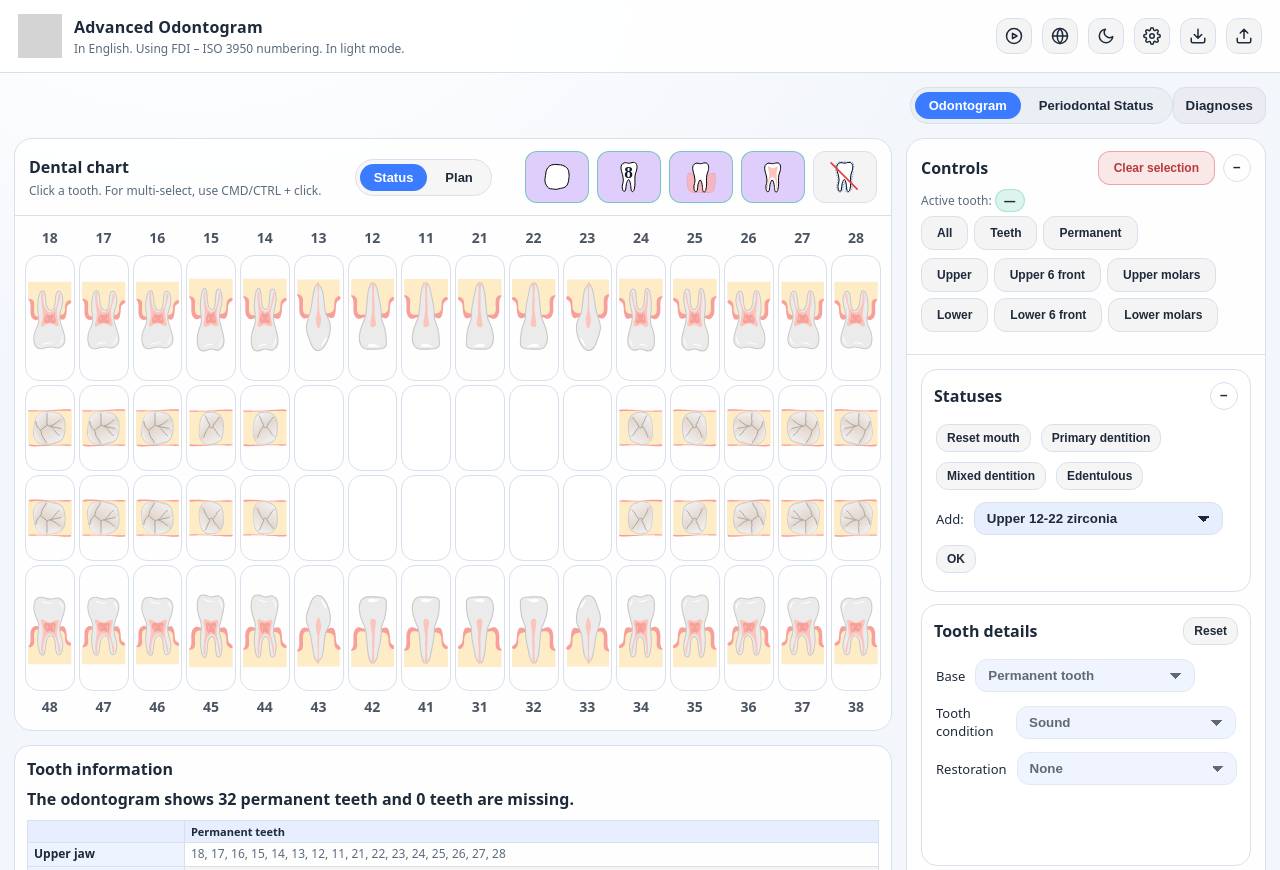
Test: Tooth-details card: selection & row visibility (Tier 3f regressions) › hides the extraction-wound / closed-gap rows for a selected permanent tooth
The width and height of the screenshot is (1280, 870).
Step 1. Click the option named "11" → (426, 318), box [401,255,451,381]
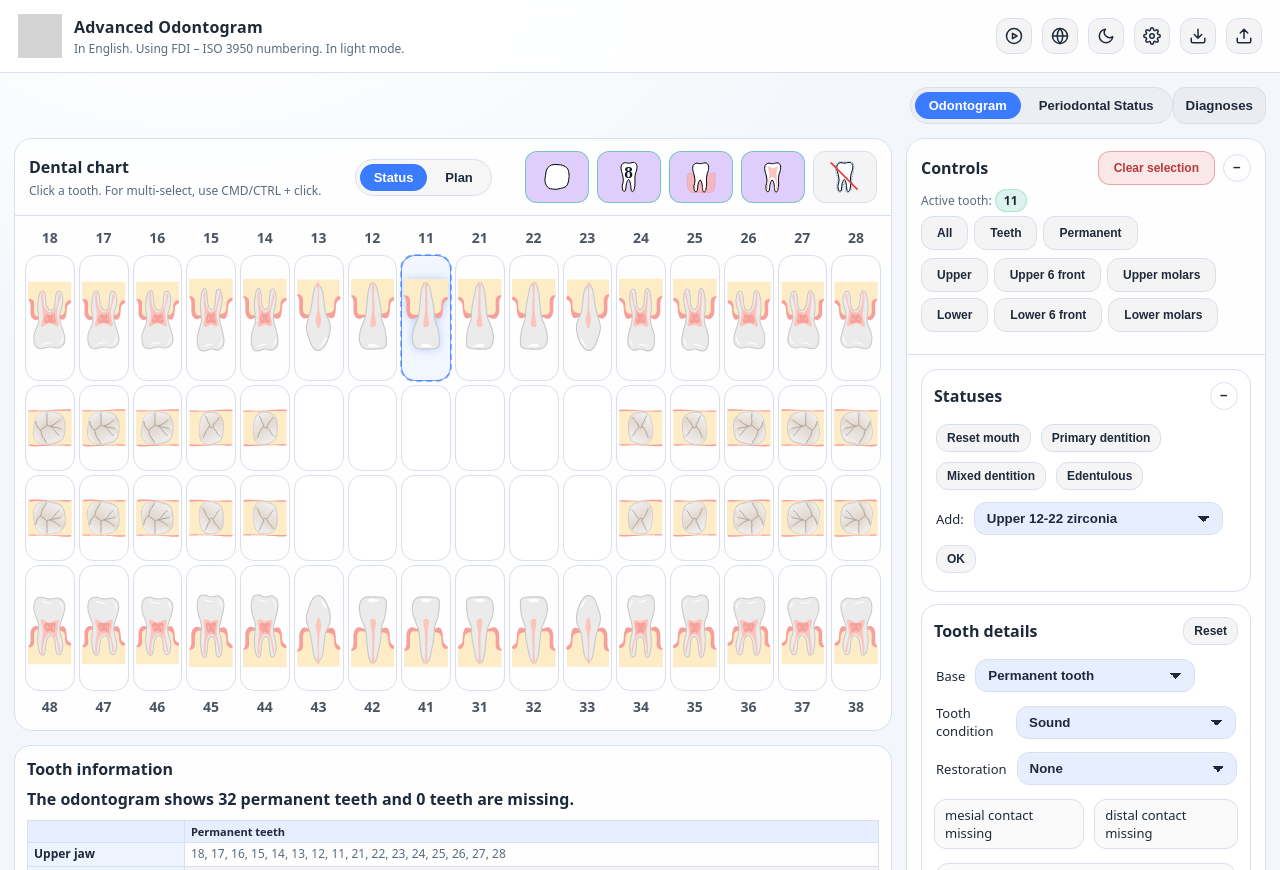
Expected: the dropdown with id "toothSelect" shows "Permanent tooth", [975,659,1195,692]
Now the text with id "activeToothLabel" reads "11", box [1004,192,1018,209]
